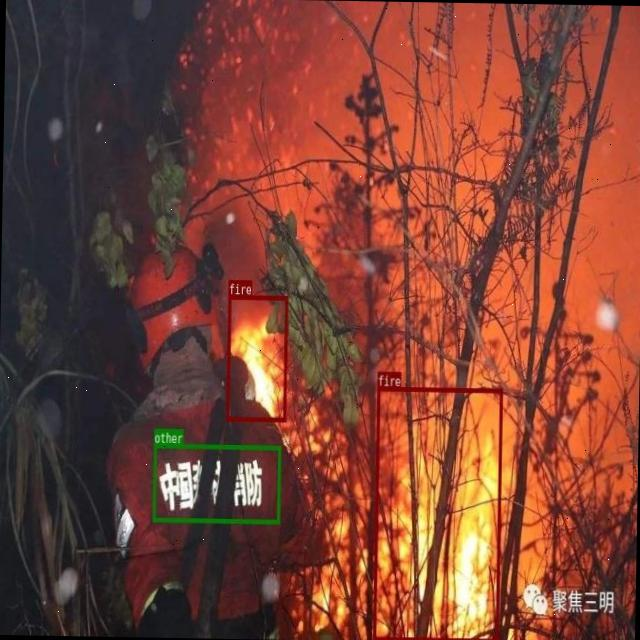fire: (372, 385, 500, 640), (225, 294, 288, 422)
